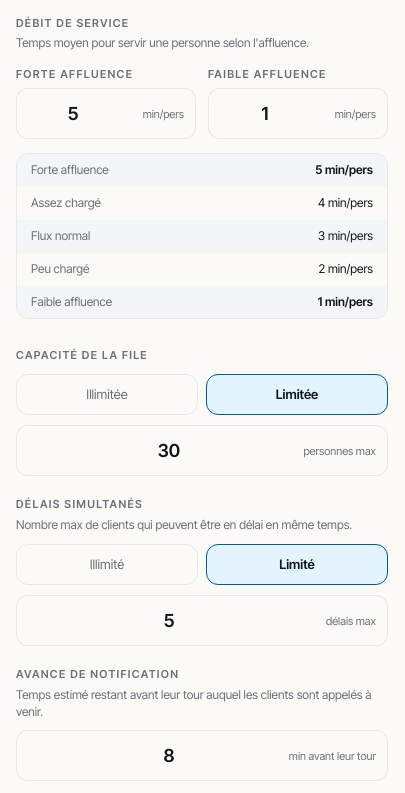
it: ScreenVendorSetup › hides queue NumberField after clicking Illimitée
The width and height of the screenshot is (405, 793).
(page scrolled)
What coordinates should you click on to do the following:
click the button "Illimitée"
I would click on:
 (107, 395)
Its box is 16,374 -> 198,416.
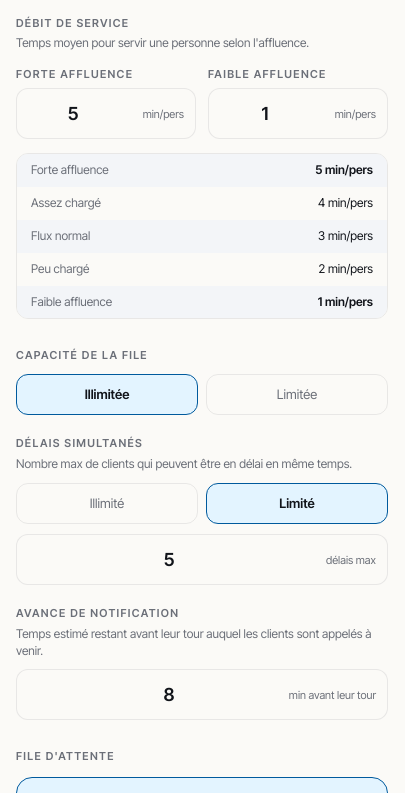
Result: the text "personnes max" is gone
